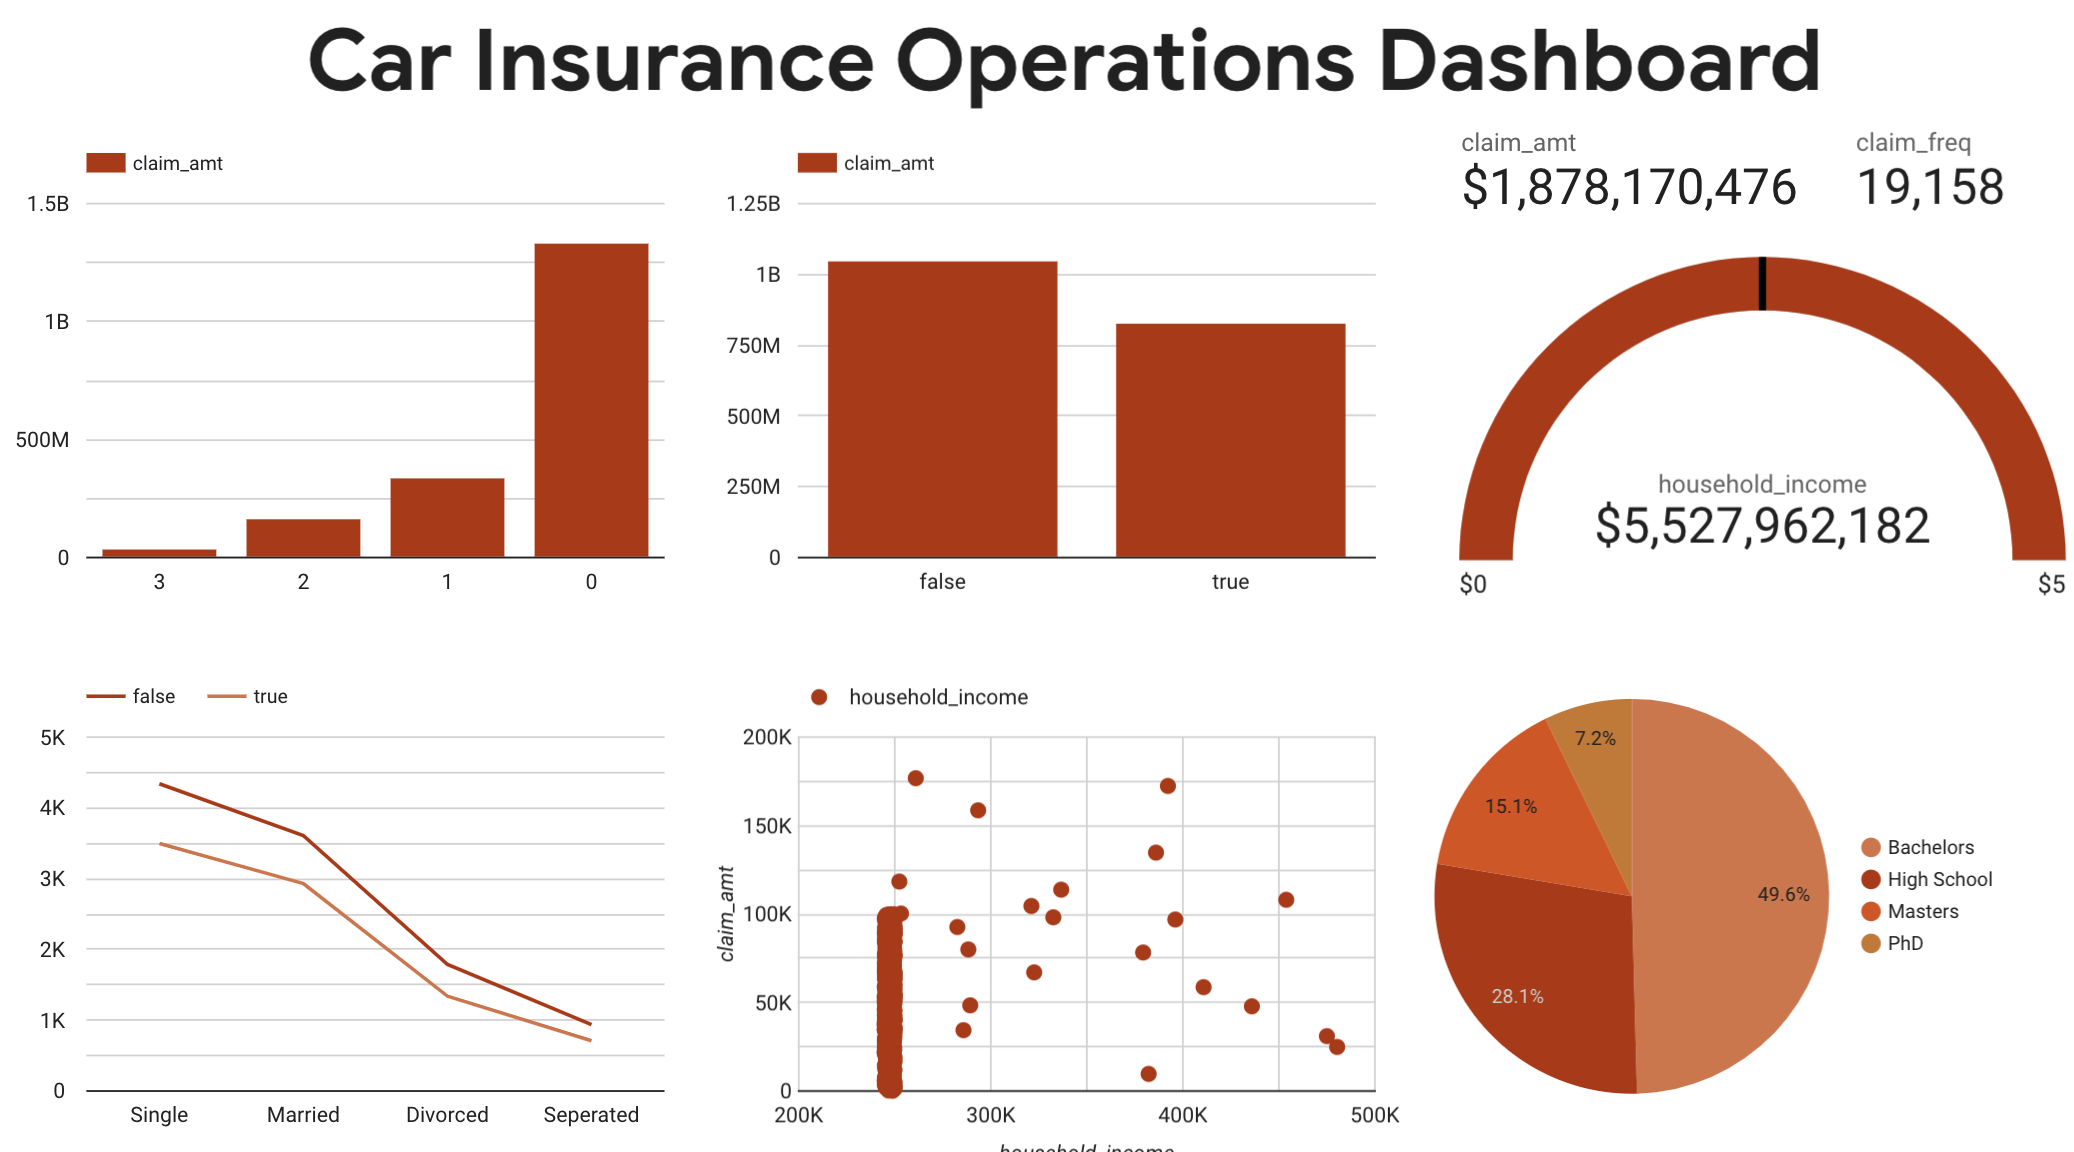

The dashboard page shown, as its layout file describes it:
{"tool":"tableau","page":{"name":"Dashboard 1","canvas":[1000,800],"ordinal":0},"visuals":[{"type":"text","box":[8,8,984,61]},{"type":"worksheet","title":"Sheet 4 (2)","mark":"Automatic","rows":["Calculation_76279776155033601"],"cols":["birthdate"],"box":[8,69,779,265.6]},{"type":"worksheet","title":"Sheet 8","mark":"Pie","box":[787,69,205,265.6]},{"type":"worksheet","title":"Sheet 5","mark":"Automatic","rows":["car_make"],"cols":["claim_amt"],"box":[8,334.6,492,228.7]},{"type":"worksheet","title":"Sheet 5 (3)","mark":"Automatic","rows":["car_make"],"cols":["claim_freq"],"box":[500,334.6,492,228.7]},{"type":"worksheet","title":"Sheet 5 (4)","mark":"Automatic","rows":["car_make"],"cols":["claim_freq"],"box":[8,563.3,492,228.7]},{"type":"worksheet","title":"Sheet 5 (2)","mark":"Automatic","rows":["car_make"],"cols":["claim_amt"],"box":[500,563.3,492,228.7]}]}

Visuals, with their boxes on the page's 1000x800 design canvas (x1, y1, x2, y2). These are canvas units, not pixel positions in the 2074x1152 screenshot, which may show the page scaled, cropped or inside an application window:
text: box=[8, 8, 992, 69]
"Sheet 4 (2)" worksheet: box=[8, 69, 787, 335]
"Sheet 8" worksheet (Pie marks): box=[787, 69, 992, 335]
"Sheet 5" worksheet: box=[8, 335, 500, 563]
"Sheet 5 (3)" worksheet: box=[500, 335, 992, 563]
"Sheet 5 (4)" worksheet: box=[8, 563, 500, 792]
"Sheet 5 (2)" worksheet: box=[500, 563, 992, 792]
